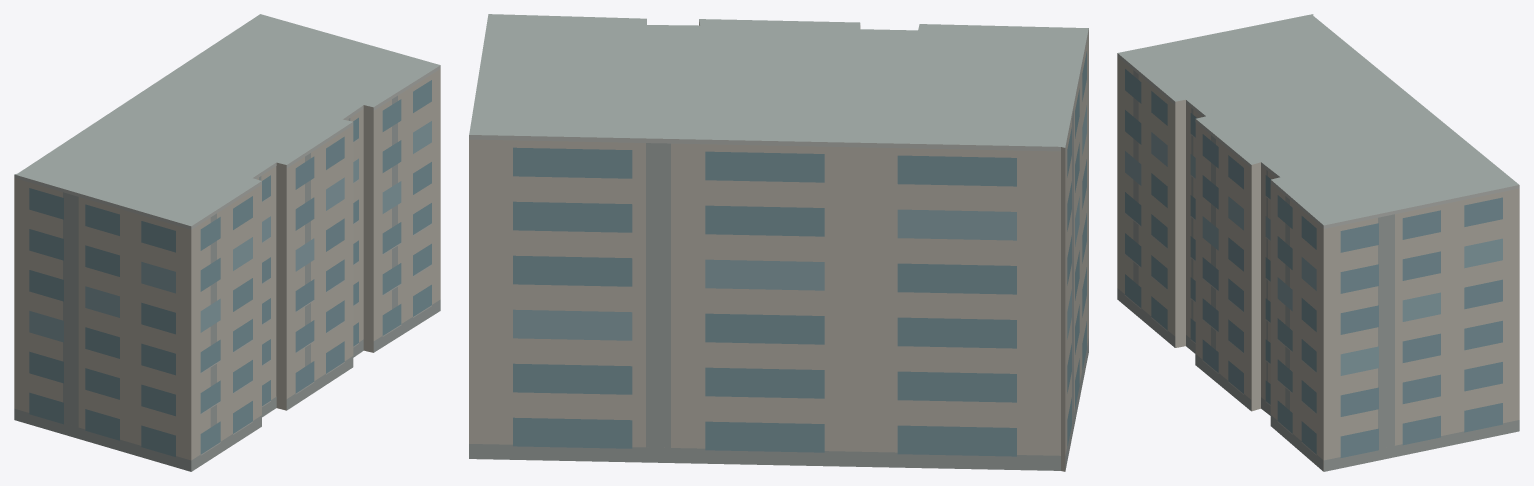
The model's file is survey-upis-32840251.glb.
3 renders of one model, left to right at view 1: azimuth 30°, elevation 25°; view 2: azimuth 150°, elevation 25°; view 3: azimuth 270°, elevation 25°, orthographic. The views are drawn at different scales.
Visible parts, largest first — view 1: survey-upis-32840251.tmp; view 2: survey-upis-32840251.tmp; view 3: survey-upis-32840251.tmp.
Part boxes in pixels (bbox=[...]): survey-upis-32840251.tmp: bbox=[14, 14, 440, 471]; survey-upis-32840251.tmp: bbox=[469, 14, 1088, 471]; survey-upis-32840251.tmp: bbox=[1117, 14, 1519, 471].
Bounding box in the file's own units: 31.66 × 17.2 × 25.44.
